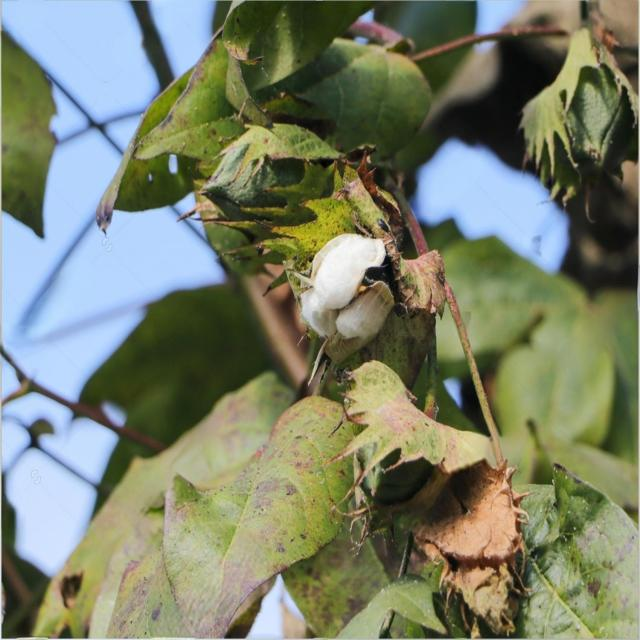Early_blight: (291, 235, 407, 351)
